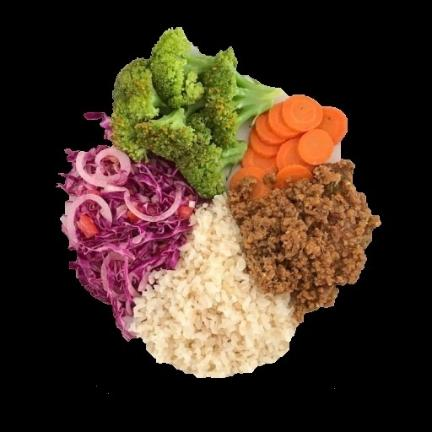broccoli: (110, 28, 280, 199)
carrot: (230, 95, 347, 188)
meat: (229, 160, 380, 322)
rice: (132, 195, 296, 377)
